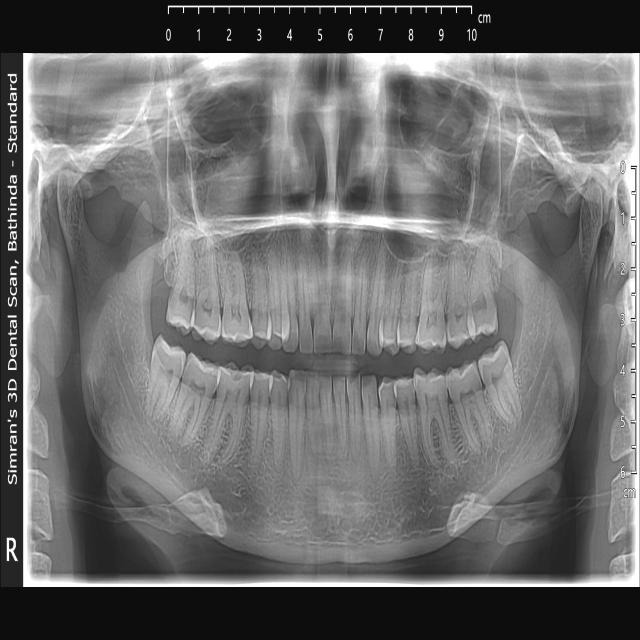Mandibular Canal: (107, 329, 248, 513), (425, 321, 561, 509)
maxillary sinus: (380, 103, 501, 265), (167, 88, 282, 255)
